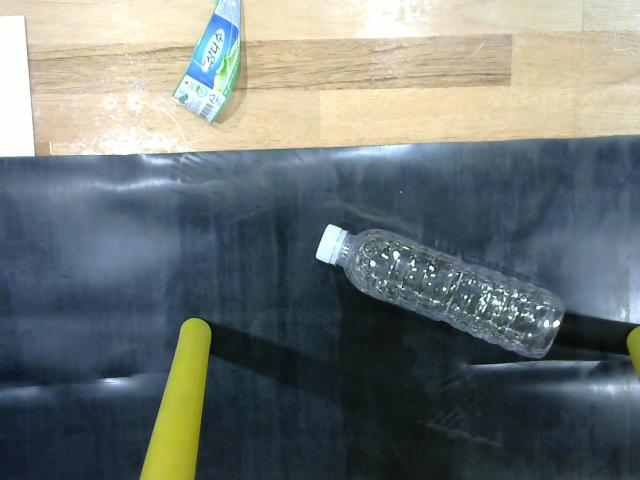bottle: (310, 221, 572, 372)
